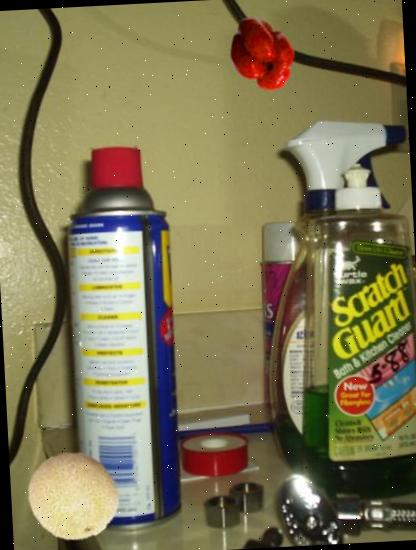Cantaloupe: (26, 448, 122, 544)
Pepper: (226, 18, 300, 91)
